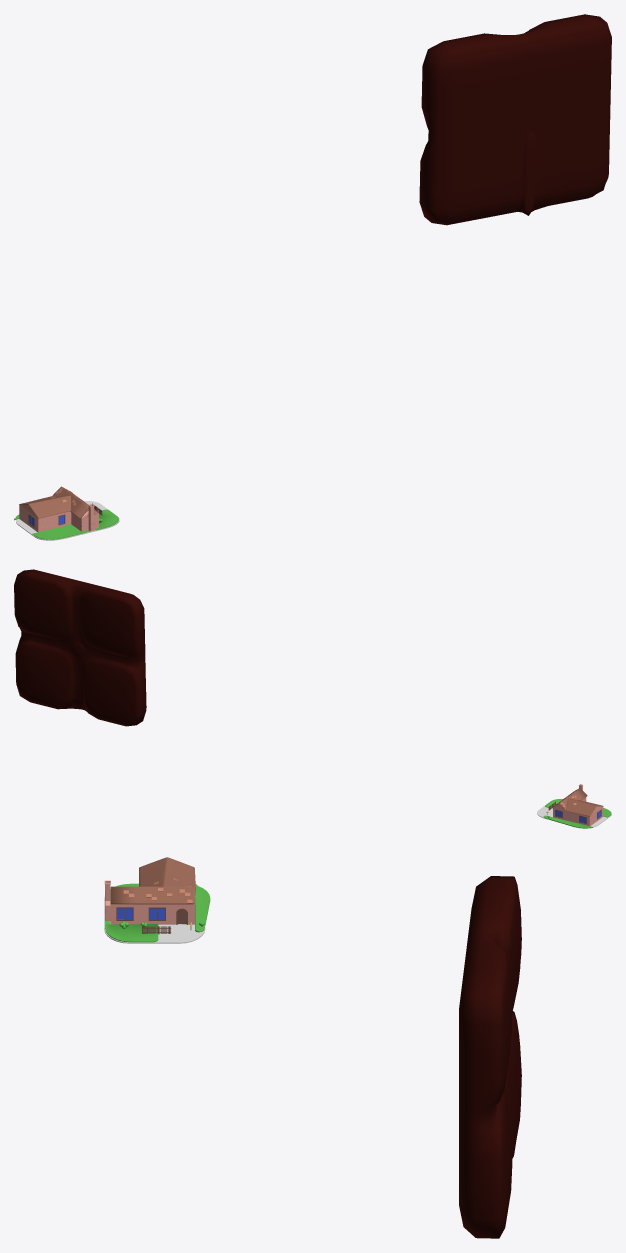
Rendered from casasolida3.fbx.
3 renders of one model, top to bottom at view 1: azimuth 30°, elevation 25°; view 2: azimuth 150°, elevation 25°; view 3: azimuth 270°, elevation 25°, orthographic. The views are drawn at different scales.
Visible parts, largest first — view 1: Cushion, Casa_Plane.001, Giardino_Plane.005, Tetto.001_Plane.013; view 2: Cushion, Casa_Plane.001, Tetto.001_Plane.013; view 3: Cushion, Giardino_Plane.005, Tetto_Plane.002, Tetto.001_Plane.013, Casa_Plane.001, Terreno_Plane.
Boxes of the visible parts, bbox=[...] form: Cushion: bbox=[419, 14, 611, 225]; Casa_Plane.001: bbox=[19, 504, 98, 532]; Giardino_Plane.005: bbox=[14, 509, 118, 539]; Tetto.001_Plane.013: bbox=[19, 495, 70, 518]; Cushion: bbox=[14, 569, 146, 726]; Casa_Plane.001: bbox=[553, 797, 603, 825]; Tetto.001_Plane.013: bbox=[566, 798, 603, 816]; Cushion: bbox=[459, 876, 521, 1238]; Giardino_Plane.005: bbox=[105, 883, 210, 942]; Tetto_Plane.002: bbox=[110, 886, 194, 904]; Tetto.001_Plane.013: bbox=[139, 857, 195, 891]; Casa_Plane.001: bbox=[110, 904, 194, 924]; Terreno_Plane: bbox=[104, 896, 205, 943].
Size of the model in its own units: 14436 by 5289 by 5177.
